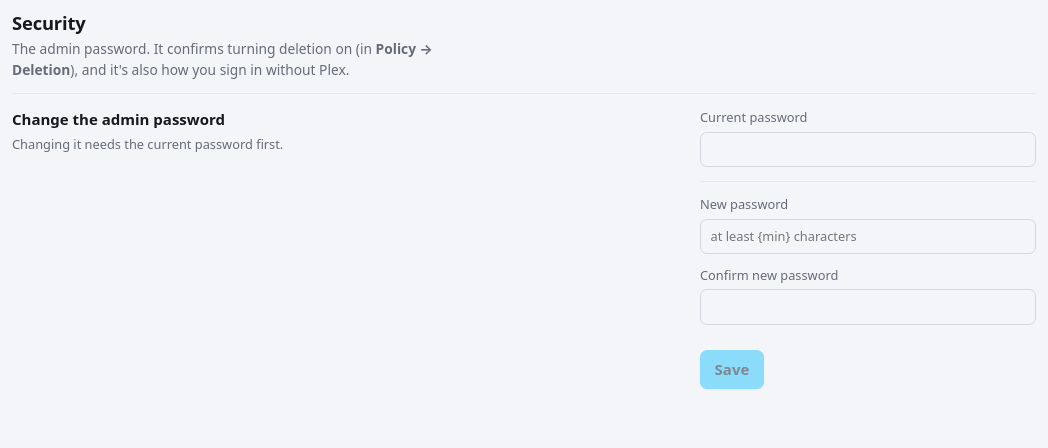
Scenario: changing the password after signing in with a recovery code › demands the current password when the session cannot be read at all
The image size is (1048, 448).
Expected: the password field labelled "Current password" is enabled, [700, 132, 1036, 167]
Clear the password field labelled "New password". click: coordinates (868, 237)
box: [700, 219, 1036, 254]
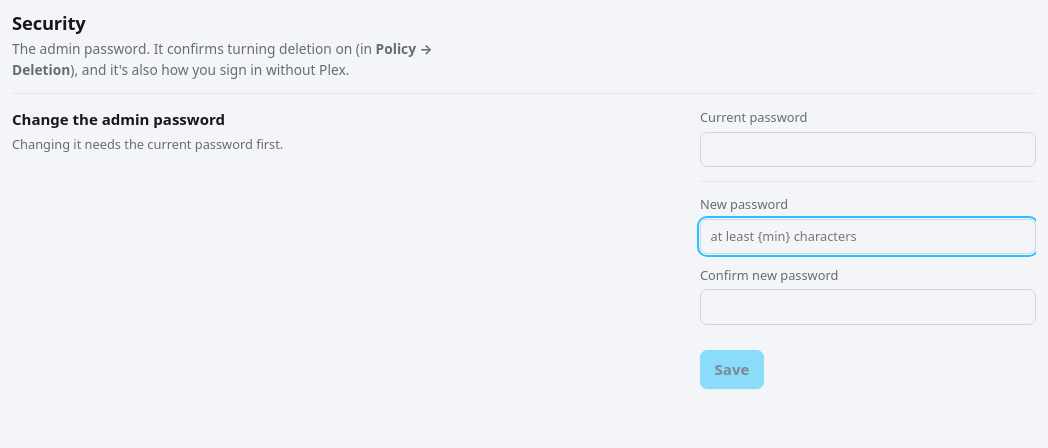
Type keys "a-long-enough-password"
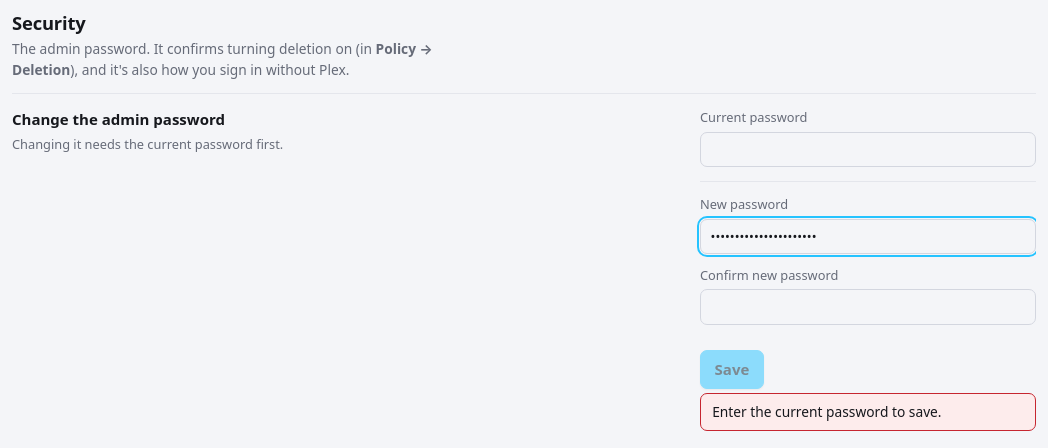
Result: the password field labelled "New password" holds "a-long-enough-password" at [700, 219, 1036, 254]
Clear the password field labelled "Confirm new password". click: coordinates (868, 307)
box: [700, 290, 1036, 325]
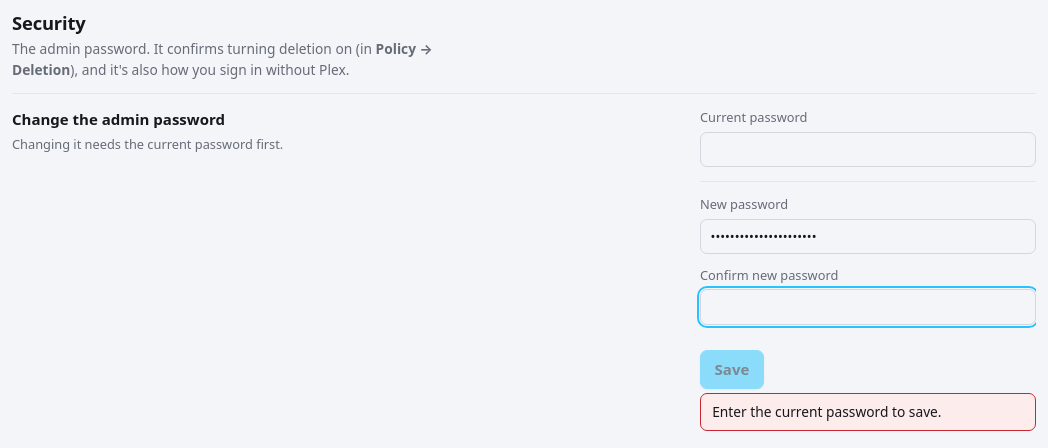
Type keys "a-long-enough-password"
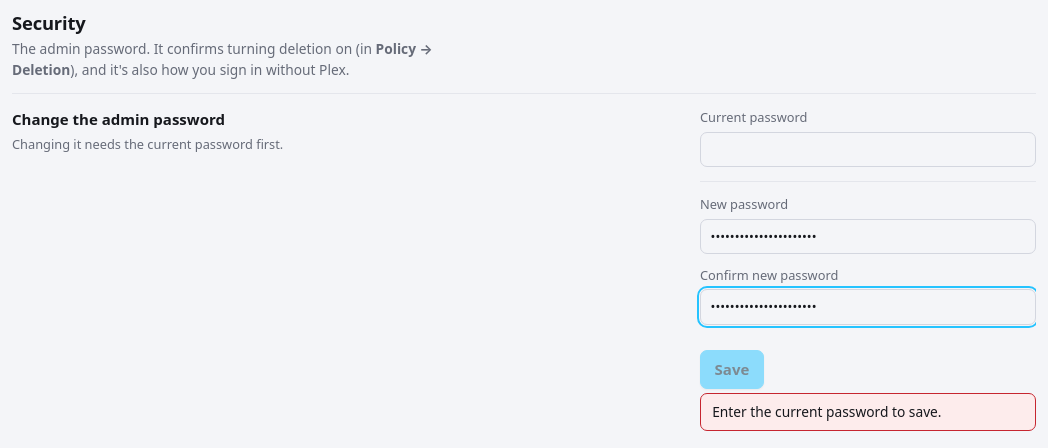
Expected: the button "Save" is disabled, [700, 350, 764, 389]
Result: the password field labelled "Confirm new password" holds "a-long-enough-password" at [700, 290, 1036, 325]
